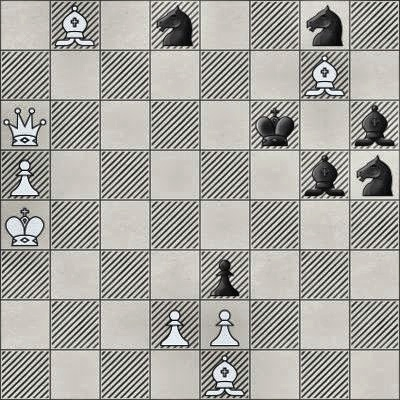black-bishop: (350, 100, 400, 150), (300, 150, 350, 200)
black-king: (250, 100, 300, 150)
black-knight: (150, 0, 200, 50), (300, 0, 350, 50), (350, 150, 400, 200)
black-pawn: (200, 250, 250, 300)
white-bishop: (50, 0, 100, 50), (300, 50, 350, 100), (200, 350, 250, 400)
white-king: (0, 200, 50, 250)
white-pawn: (0, 150, 50, 200), (150, 300, 200, 350), (200, 300, 250, 350)
white-queen: (0, 100, 50, 150)
